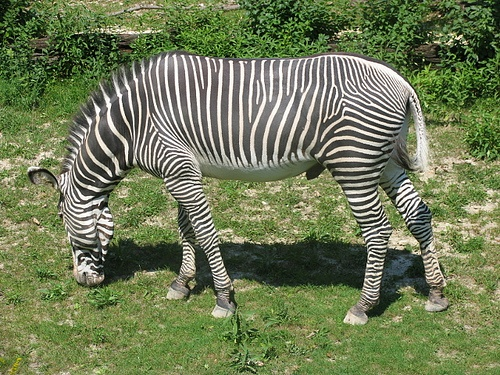zebra: (26, 50, 451, 324)
